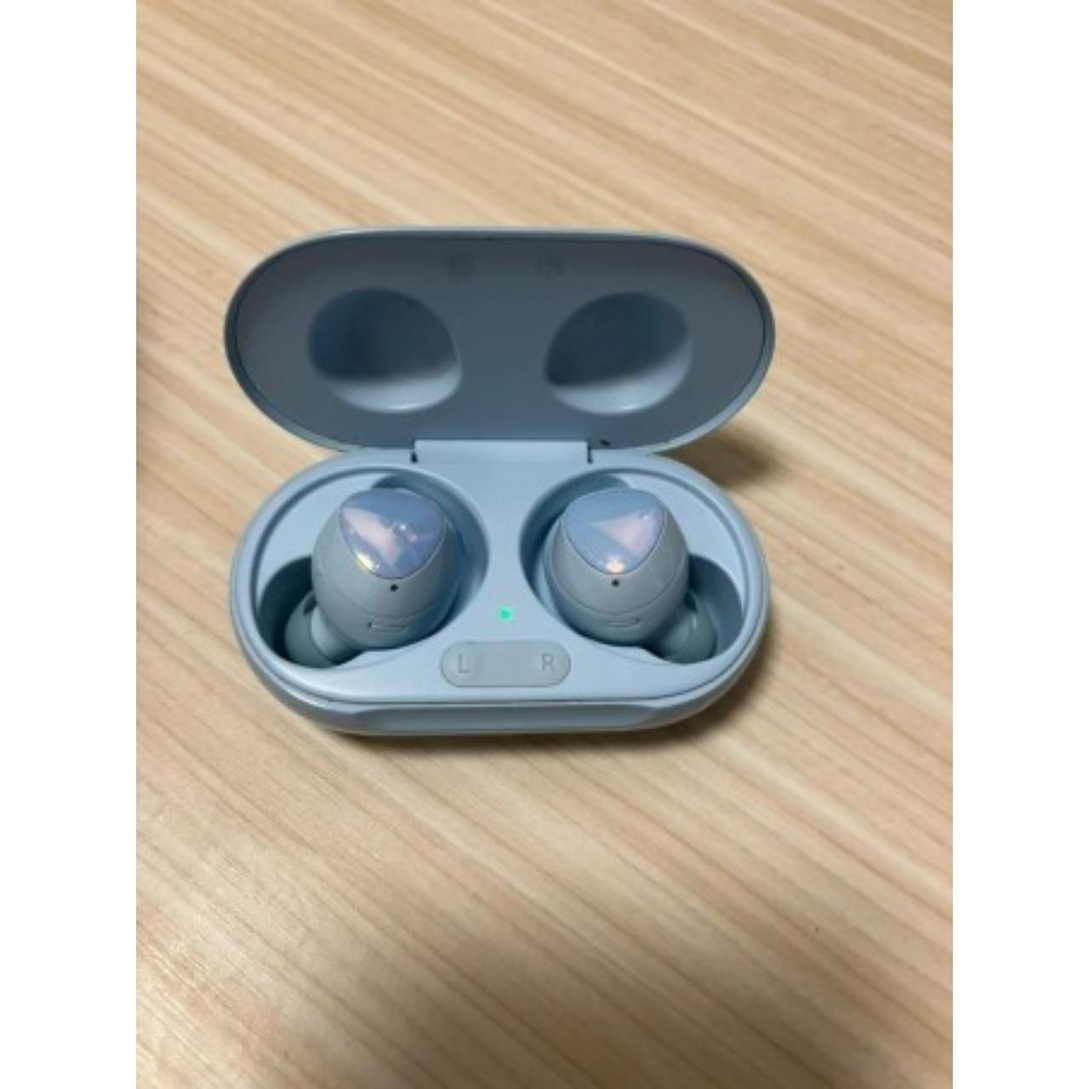Buds: (214, 218, 785, 747)
Buds_Units: (257, 476, 489, 669), (531, 483, 737, 661)
